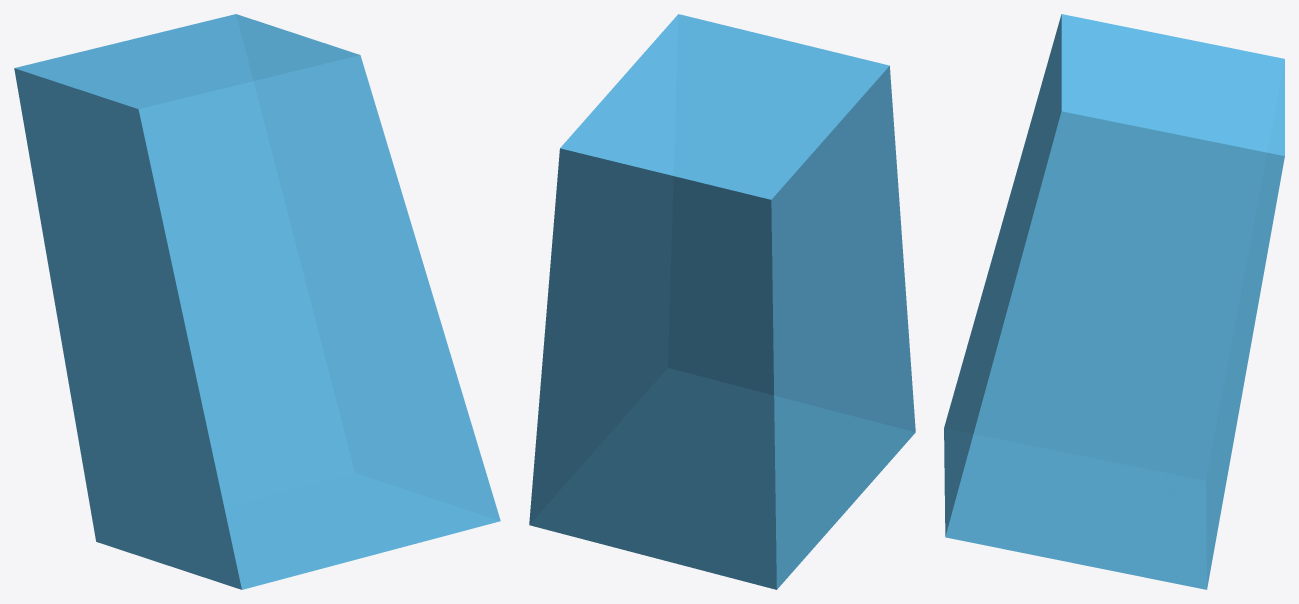
File: Event_420604493_HBrechit_29.fbx
3 renders of one model, left to right at view 1: azimuth 30°, elevation 25°; view 2: azimuth 150°, elevation 25°; view 3: azimuth 270°, elevation 25°, orthographic. The views are drawn at different scales.
Parts seen in each view (by area): view 1: Model; view 2: Model; view 3: Model.
Boxes of the visible parts, left/top/right/bottom form: Model: left=14, top=14, right=500, bottom=589; Model: left=529, top=14, right=915, bottom=589; Model: left=944, top=14, right=1284, bottom=589.
Bounding box in the file's own units: 0.5419 × 0.8714 × 0.5983.
